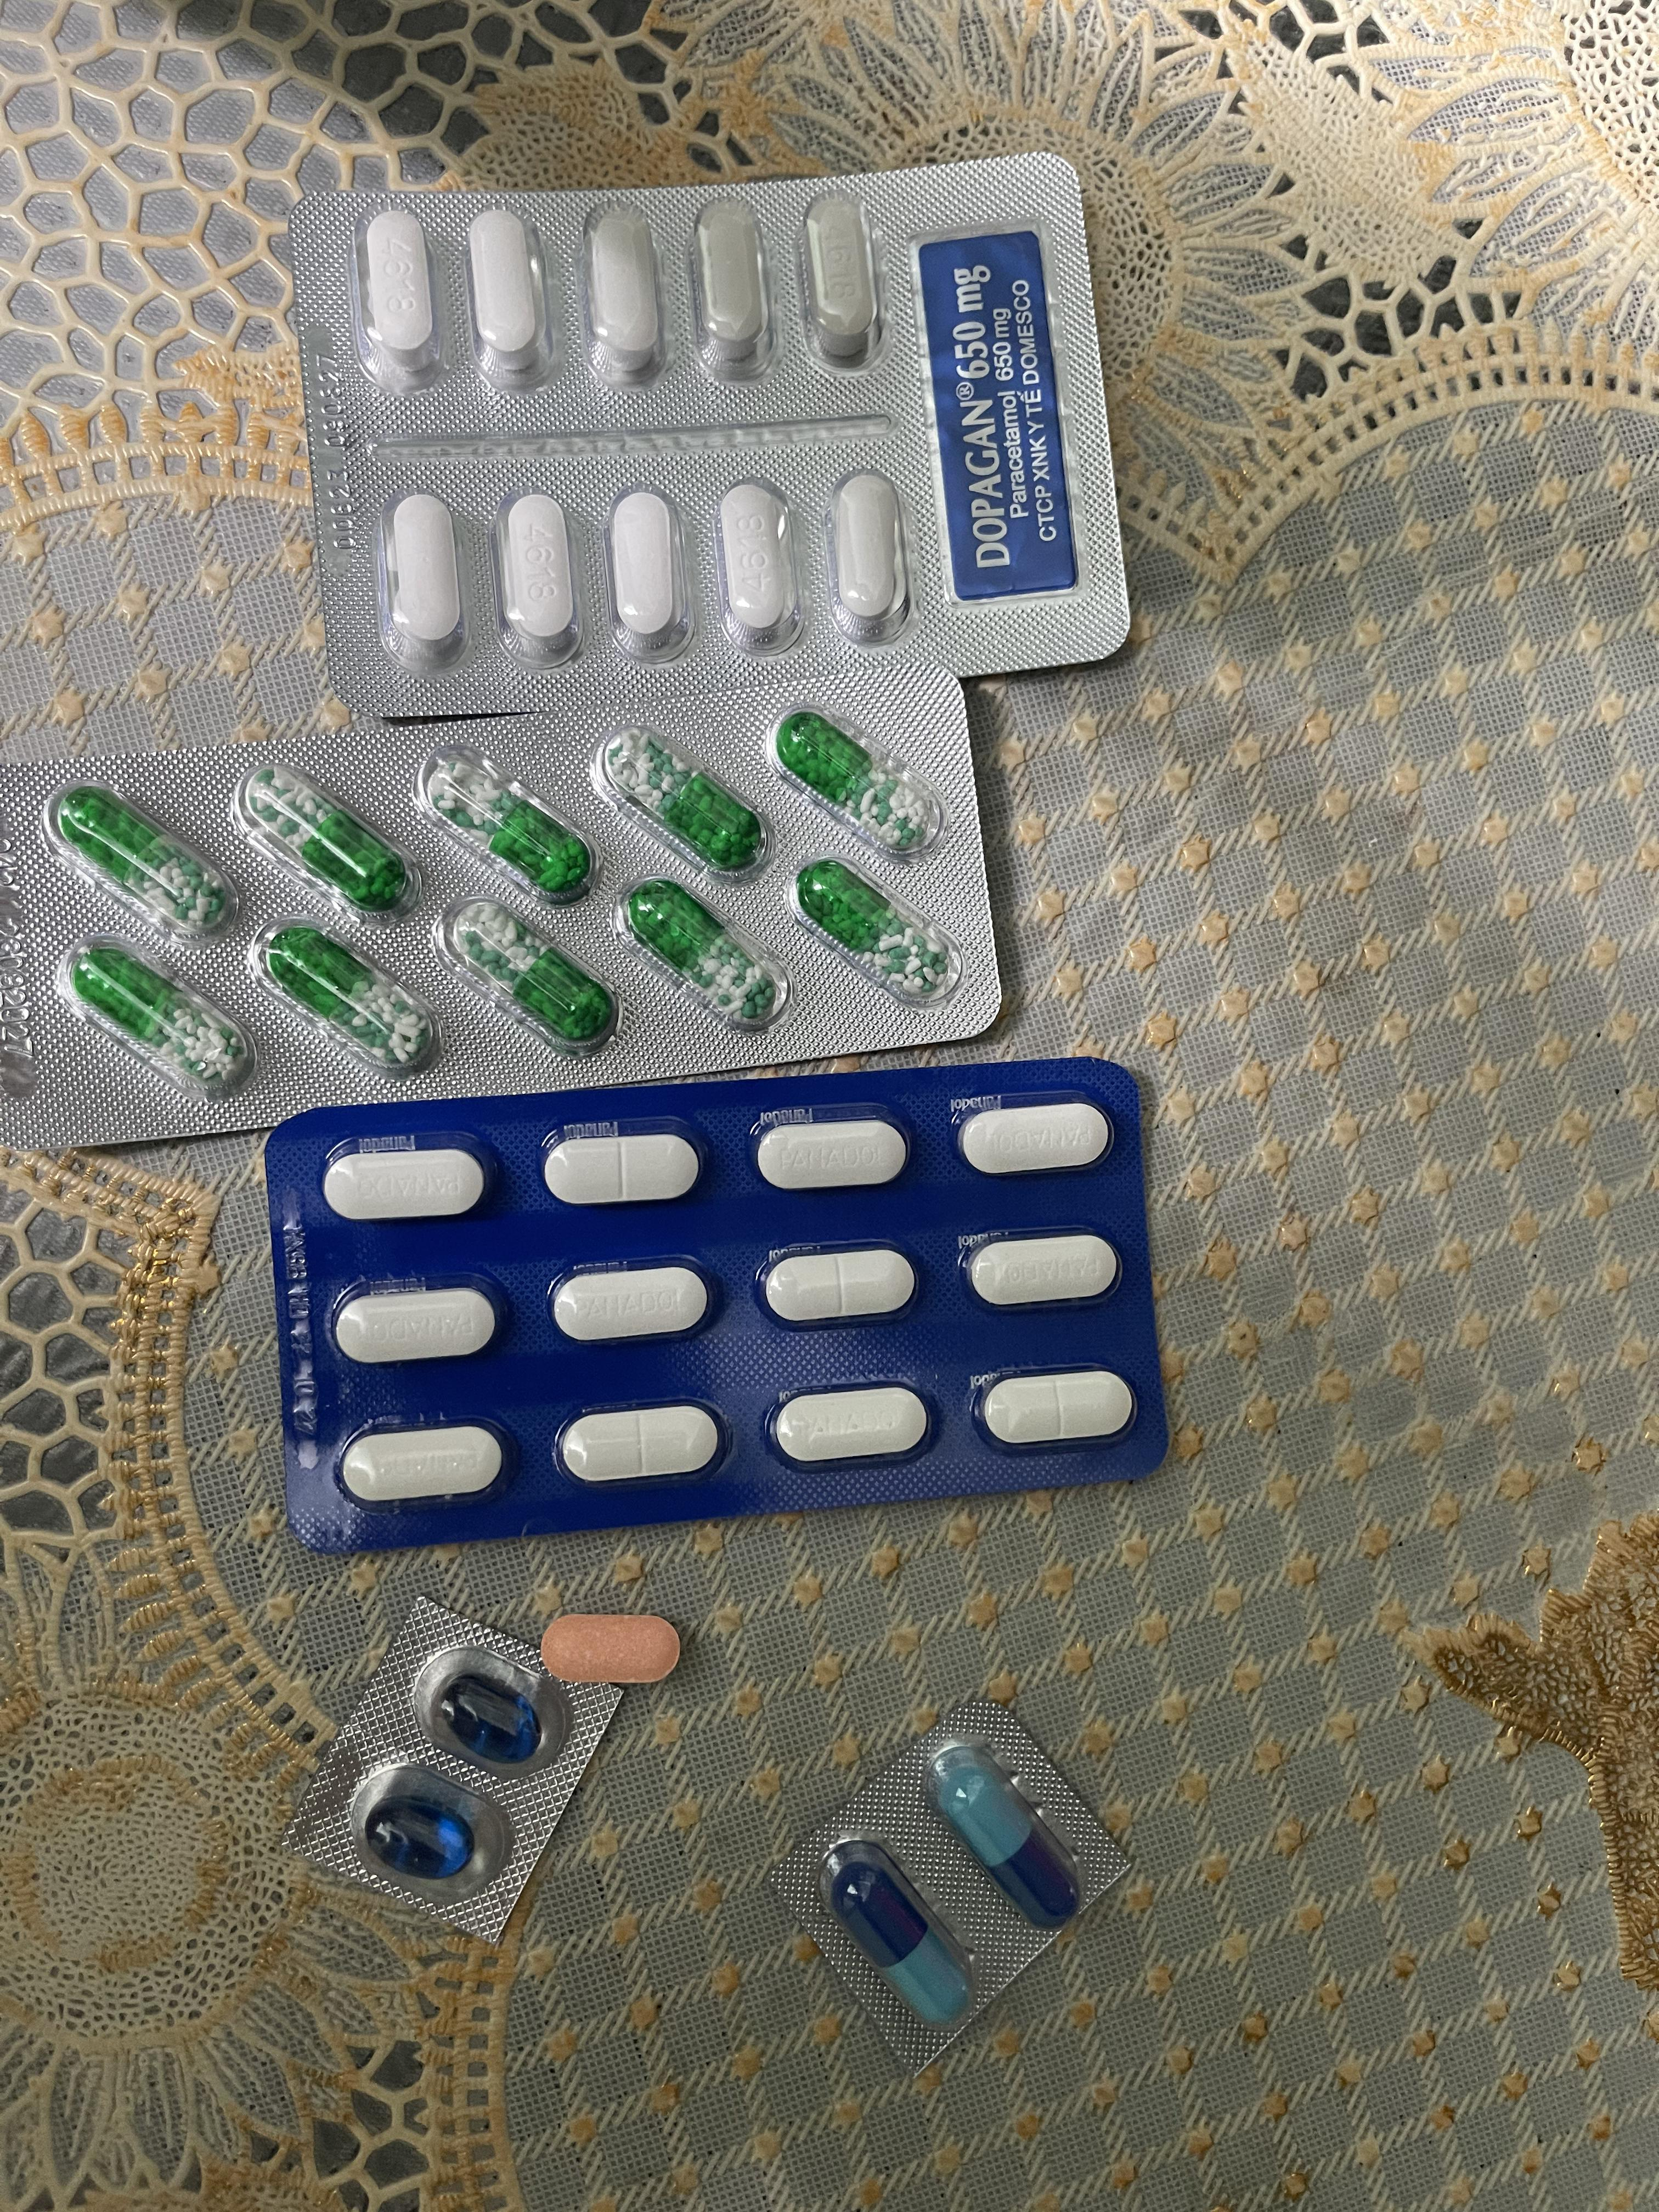Lincomyxin_500mg: (366, 1797, 476, 1879), (437, 1674, 538, 1763)
Loratadine_10mg: (540, 1615, 685, 1686)
Paracetamol_350mg: (331, 1278, 502, 1366), (338, 1420, 511, 1505), (551, 1258, 718, 1345), (558, 1400, 727, 1486), (769, 1381, 936, 1467), (322, 1141, 493, 1223), (762, 1242, 920, 1327), (542, 1129, 704, 1209), (978, 1369, 1134, 1449), (962, 1231, 1121, 1310), (753, 1115, 913, 1191), (958, 1101, 1114, 1177)
Paracetamol_500mg: (376, 489, 469, 672), (603, 482, 695, 658), (692, 199, 779, 381), (580, 202, 666, 388), (495, 493, 586, 665), (357, 209, 443, 390), (465, 207, 549, 387), (800, 190, 880, 371), (830, 470, 911, 644), (718, 482, 796, 646)
Paracetamol_650mg: (59, 934, 256, 1099), (44, 779, 239, 942), (235, 758, 422, 923), (591, 719, 769, 874), (791, 850, 958, 1008), (267, 928, 429, 1066), (451, 904, 612, 1040), (432, 758, 589, 895), (779, 714, 936, 846), (627, 881, 775, 1021)
pill: (932, 1743, 1084, 1925), (826, 1843, 974, 2020)
